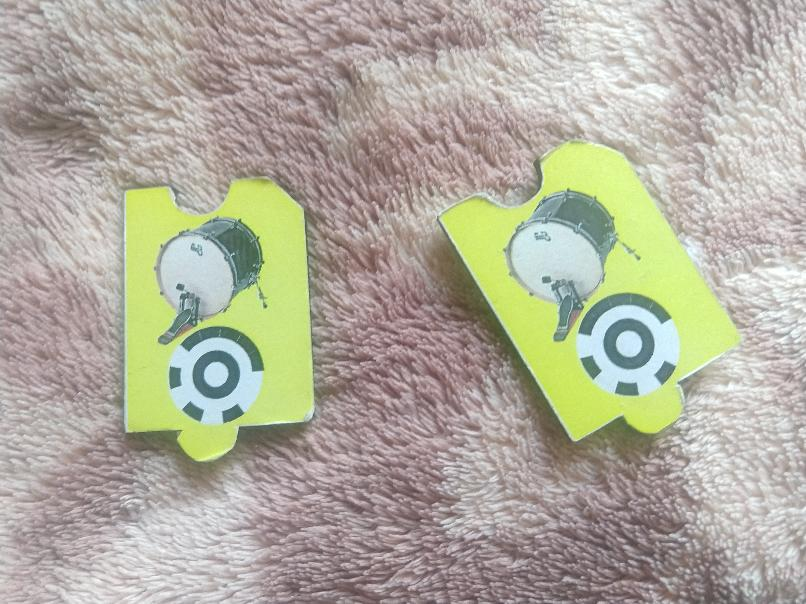bumbo: (435, 138, 744, 444), (119, 169, 317, 465)
